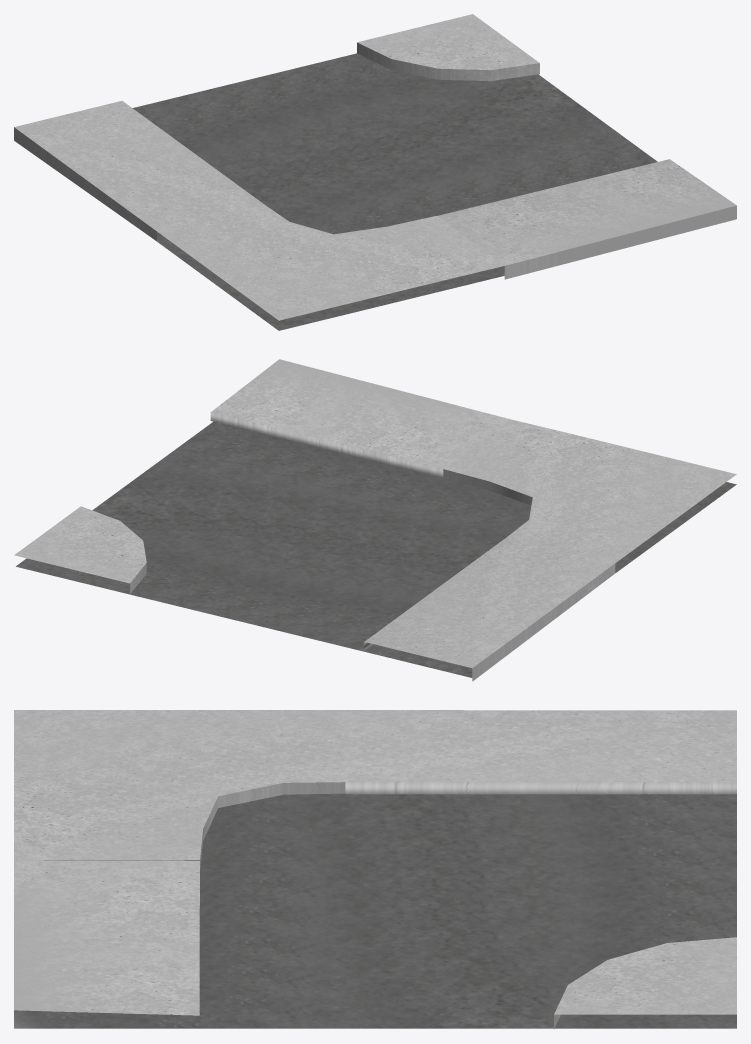
The model's file is Road Curve.fbx.
3 views of the same model, one above another, from view 1: azimuth 30°, elevation 25°; view 2: azimuth 150°, elevation 25°; view 3: azimuth 270°, elevation 25° (orthographic). The views are drawn at different scales.
Parts seen in each view (by area): view 1: polySurface9; view 2: polySurface9; view 3: polySurface9.
Boxes of the visible parts, <box> form: polySurface9: <box>14,14,736,330</box>; polySurface9: <box>14,359,736,681</box>; polySurface9: <box>14,710,736,1029</box>.
Size of the model in its own units: 24.08 by 0.8766 by 24.08.
2 materials, 2 textured.
